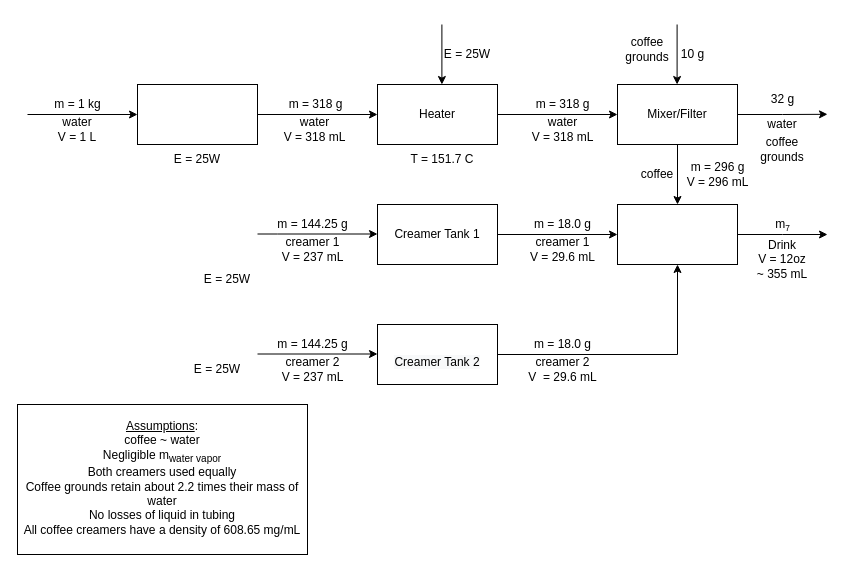
Image size: 853x572. Some labels were removed from this diagram. Each missing label, with the centre of its shape:
"Cup" belongs at pixel 677 234.
"Water Tank" belongs at pixel 197 114.
